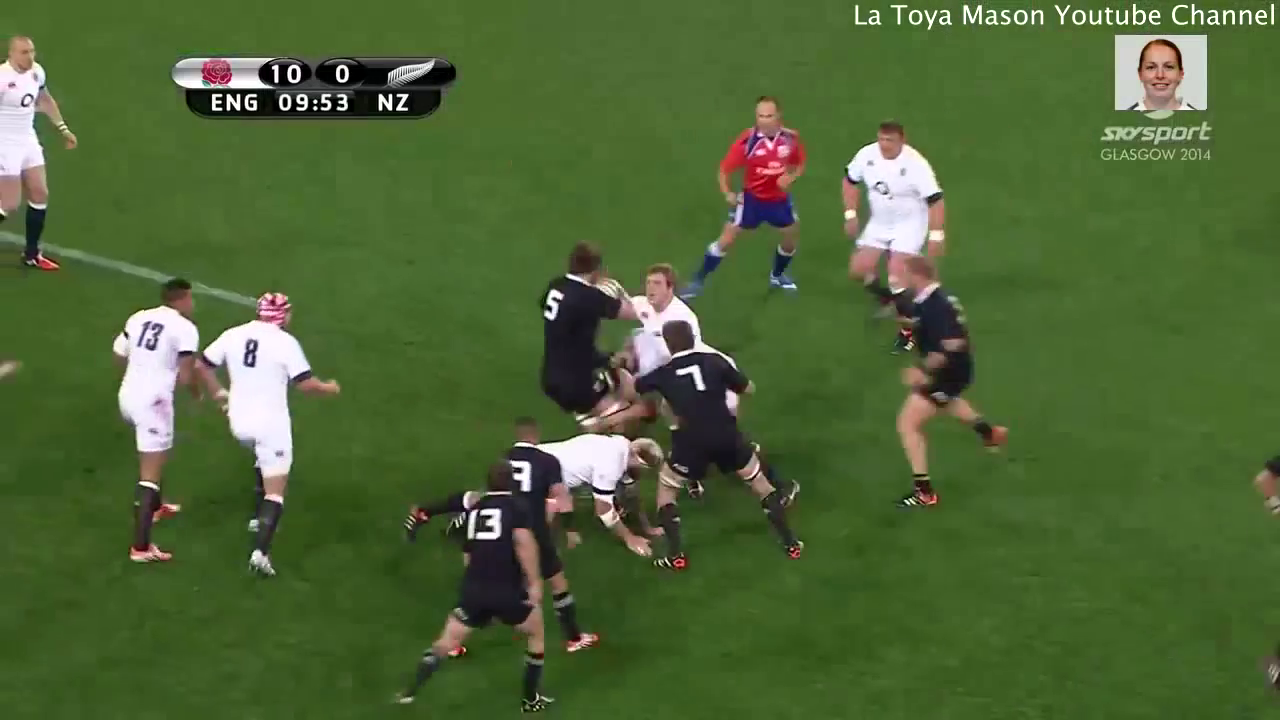ball: (589, 259, 634, 320)
player: (625, 319, 820, 587), (188, 268, 345, 600), (377, 459, 568, 720), (868, 252, 1014, 543), (390, 422, 673, 563), (87, 271, 210, 584), (461, 403, 609, 656), (503, 213, 646, 468), (819, 109, 952, 352), (674, 88, 813, 307), (1, 21, 94, 282), (602, 253, 717, 404)
